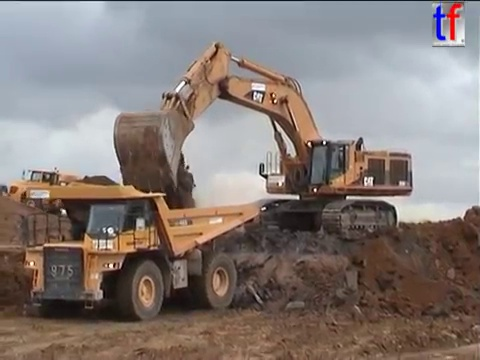excavator: (110, 39, 416, 241)
truck: (11, 182, 262, 322), (6, 166, 127, 218)
